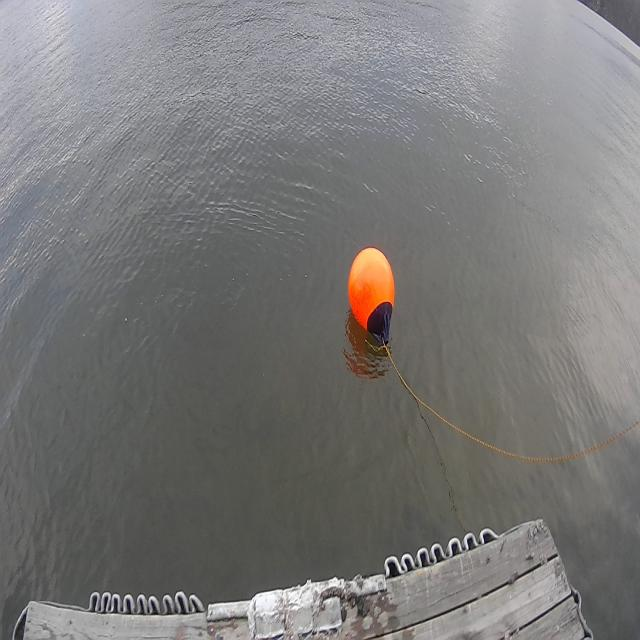Buoy: (344, 240, 400, 352)
